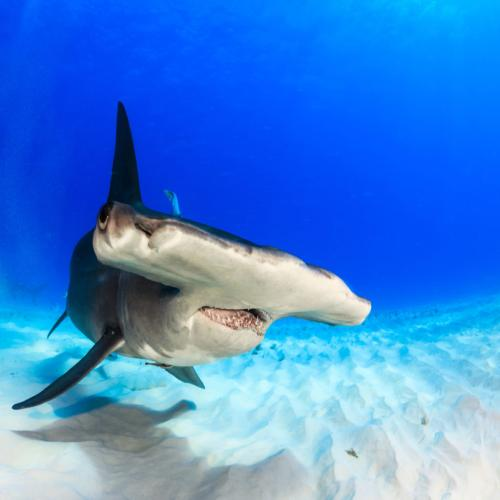shark-endangered: (14, 102, 372, 412)
